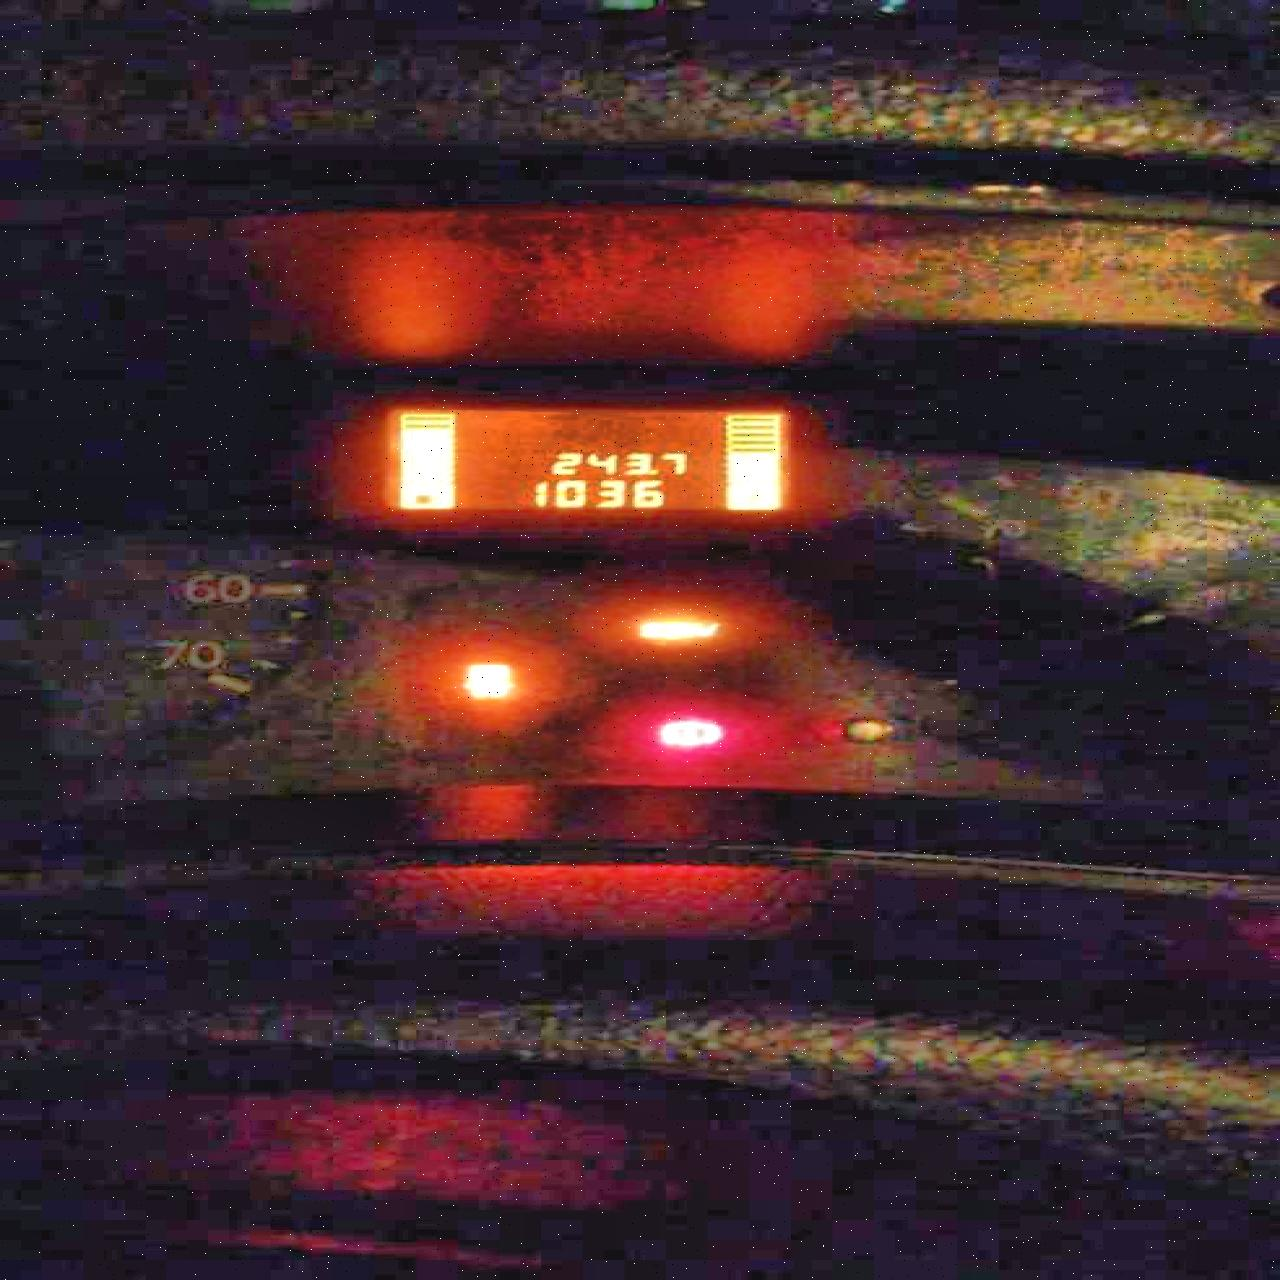-: (648, 469, 659, 475)
0: (551, 477, 586, 508)
1: (525, 478, 549, 506)
2: (549, 450, 580, 474)
3: (591, 477, 627, 508), (620, 450, 651, 475)
4: (586, 451, 620, 474)
6: (629, 478, 666, 508)
7: (659, 450, 687, 475)
odometer: (372, 404, 796, 515)
